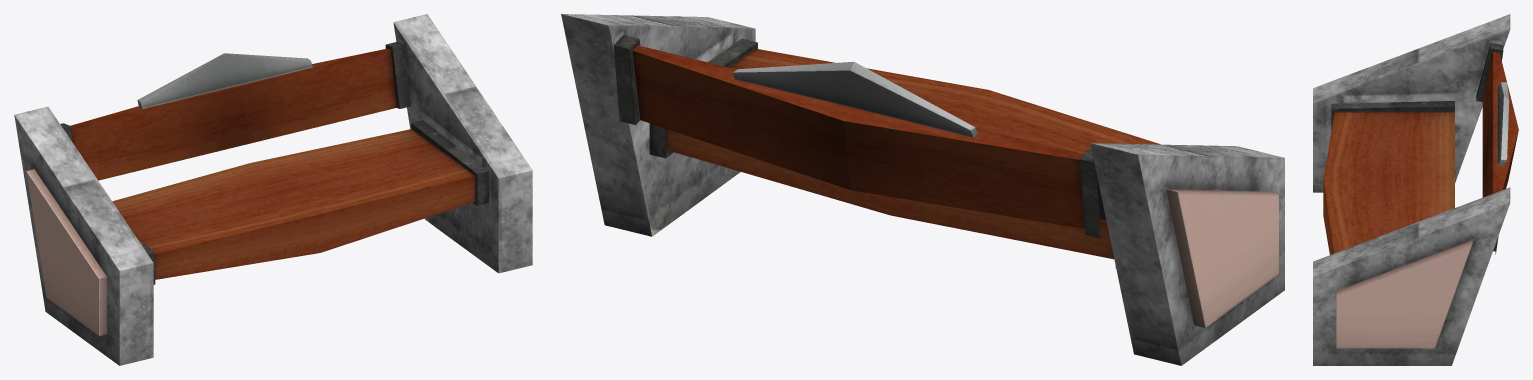
The model's file is bench-01.glb.
The picture shows the model from 3 angles, left to right: view 1: azimuth 30°, elevation 25°; view 2: azimuth 150°, elevation 25°; view 3: azimuth 270°, elevation 25°; orthographic projection. The views are drawn at different scales.
Parts seen in each view (by area): view 1: Bench_01; view 2: Bench_01; view 3: Bench_01.
Part boxes in pixels (x1,y1,x2,y2): Bench_01: (14, 14, 532, 365); Bench_01: (561, 14, 1284, 365); Bench_01: (1313, 14, 1518, 365).
Size of the model in its own units: 2.14 by 0.8923 by 0.946.
1 material, 1 textured.
